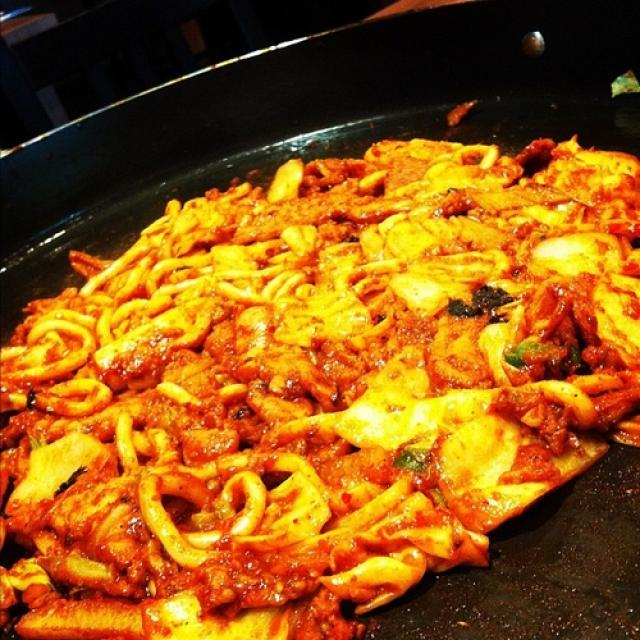鸡肉料理 含炸鸡: (13, 50, 627, 628)
